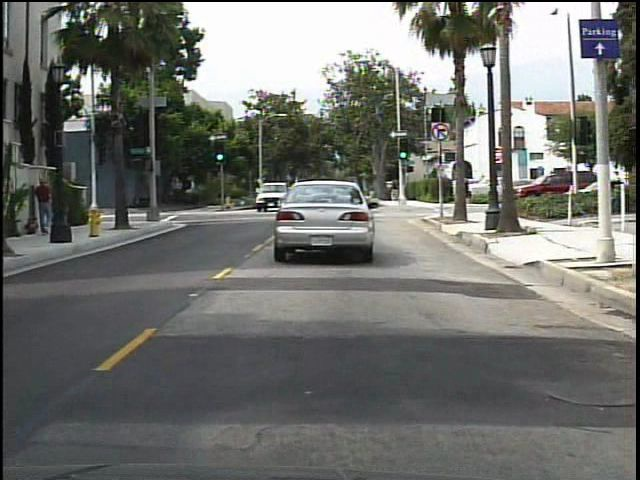person: (31, 176, 59, 243)
